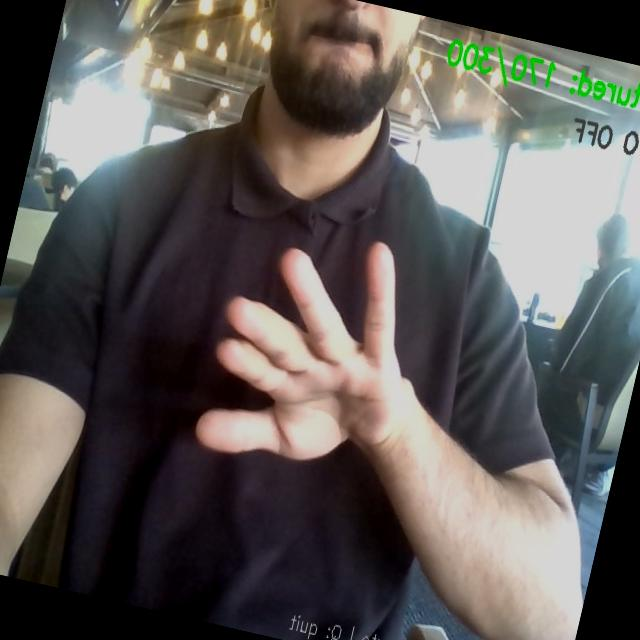Hand: (196, 243, 414, 460)
